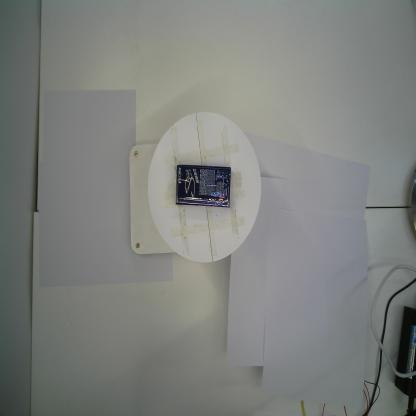Gum: (174, 163, 232, 211)
